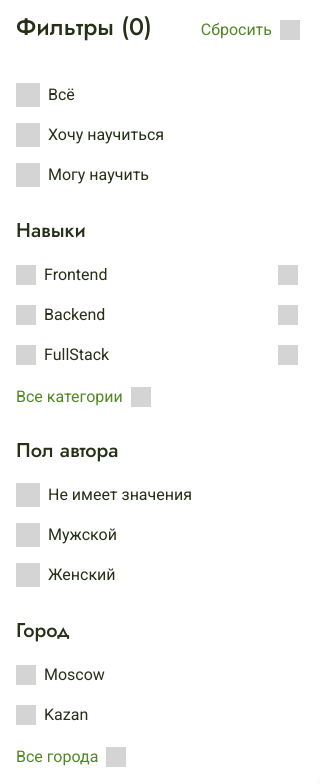
Test case: FiltersSidebar › меняет текст кнопки показа всех категорий
Click the button "Все категории" at [83, 397], box 16,387 -> 151,407
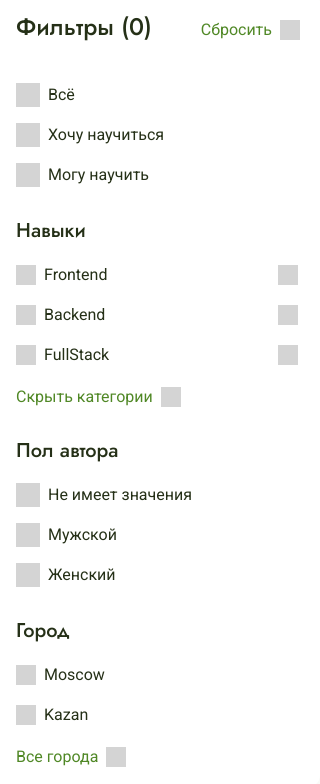
Expected: the button "Скрыть категории" is shown, 16,387 -> 181,407
